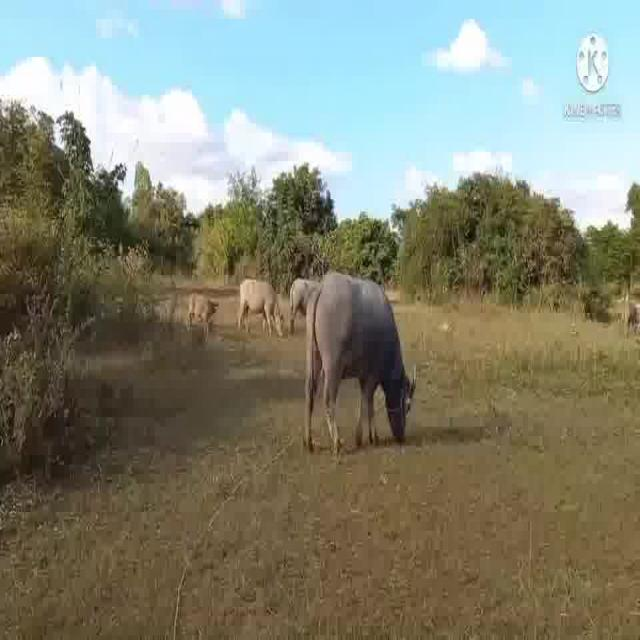buffalo: (307, 268, 416, 457), (235, 274, 286, 338)
